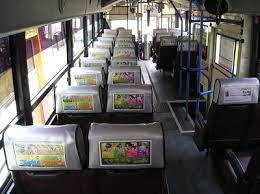seat: (16, 109, 88, 185)
